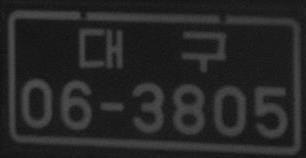0: (212, 83, 247, 137), (20, 77, 53, 129)
3: (131, 81, 164, 133)
5: (252, 87, 288, 139)
6: (60, 79, 92, 130)
8: (171, 81, 206, 136)
대구_D: (77, 29, 226, 73)
